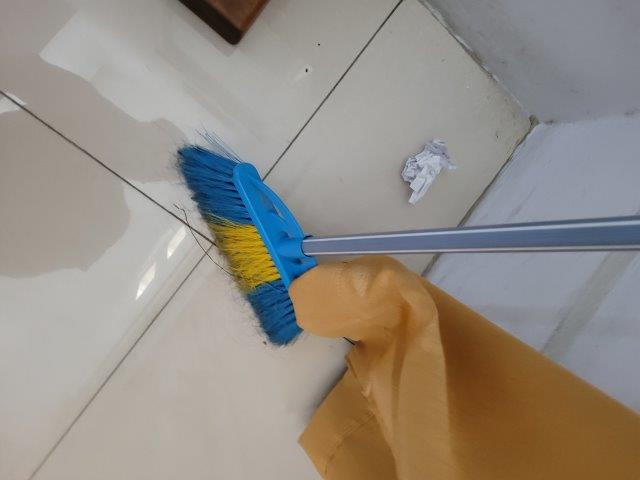kertas: (402, 140, 455, 206)
